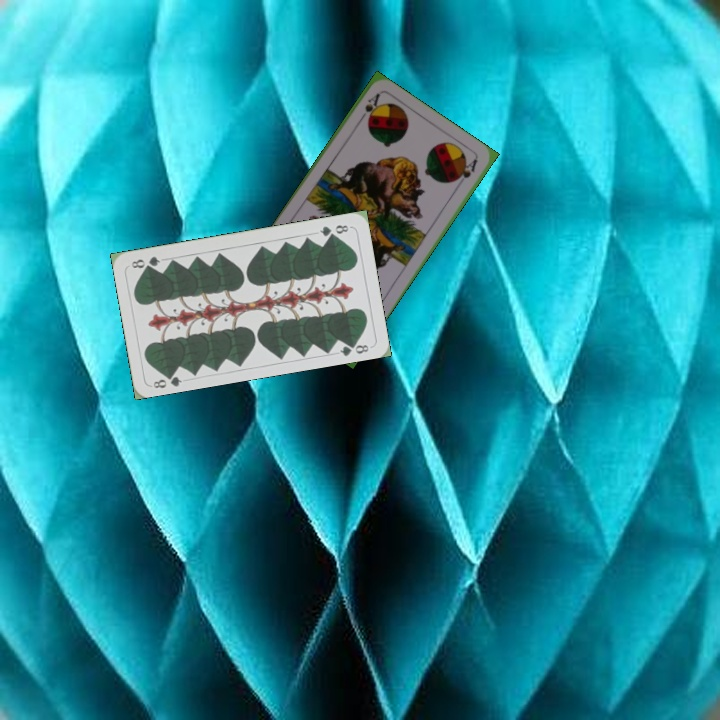G8: (149, 368, 184, 391), (316, 221, 353, 239)
SA: (354, 90, 383, 125)
